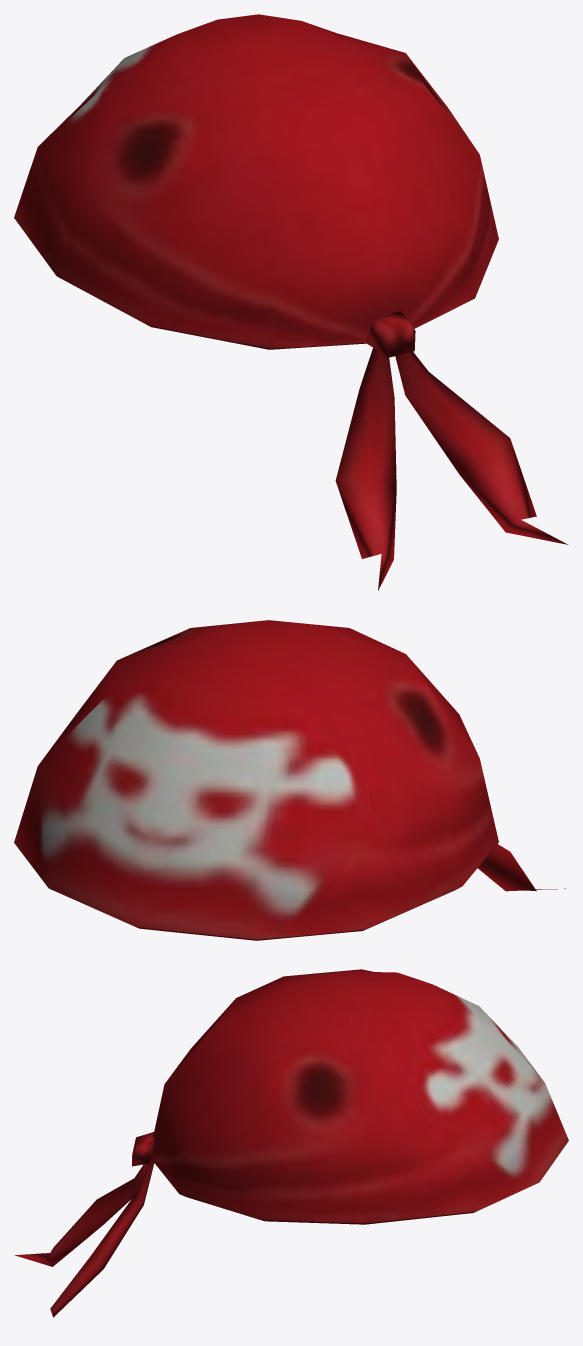
Rendered from pirateBandana.glb.
The picture shows the model from 3 angles, top to bottom: view 1: azimuth 30°, elevation 25°; view 2: azimuth 150°, elevation 25°; view 3: azimuth 270°, elevation 25°; orthographic projection. The views are drawn at different scales.
Visible parts, largest first — view 1: pirateBandana; view 2: pirateBandana; view 3: pirateBandana.
Part boxes in pixels (x1=…): pirateBandana: x1=14, y1=14, x2=568, y2=590; pirateBandana: x1=14, y1=620, x2=565, y2=940; pirateBandana: x1=15, y1=969, x2=568, y2=1317.
Bounding box in the file's own units: 0.3681 × 0.3227 × 0.5318.
1 material, 1 textured.
